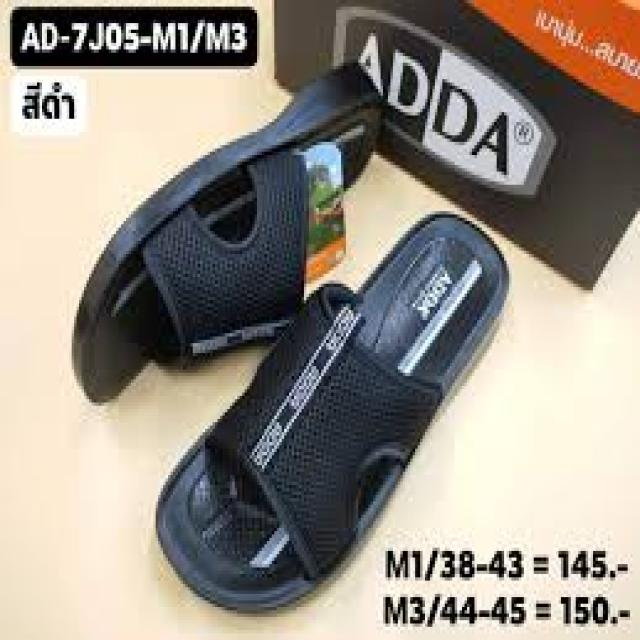shoe: (64, 63, 510, 621), (152, 210, 514, 596), (67, 64, 381, 406)
